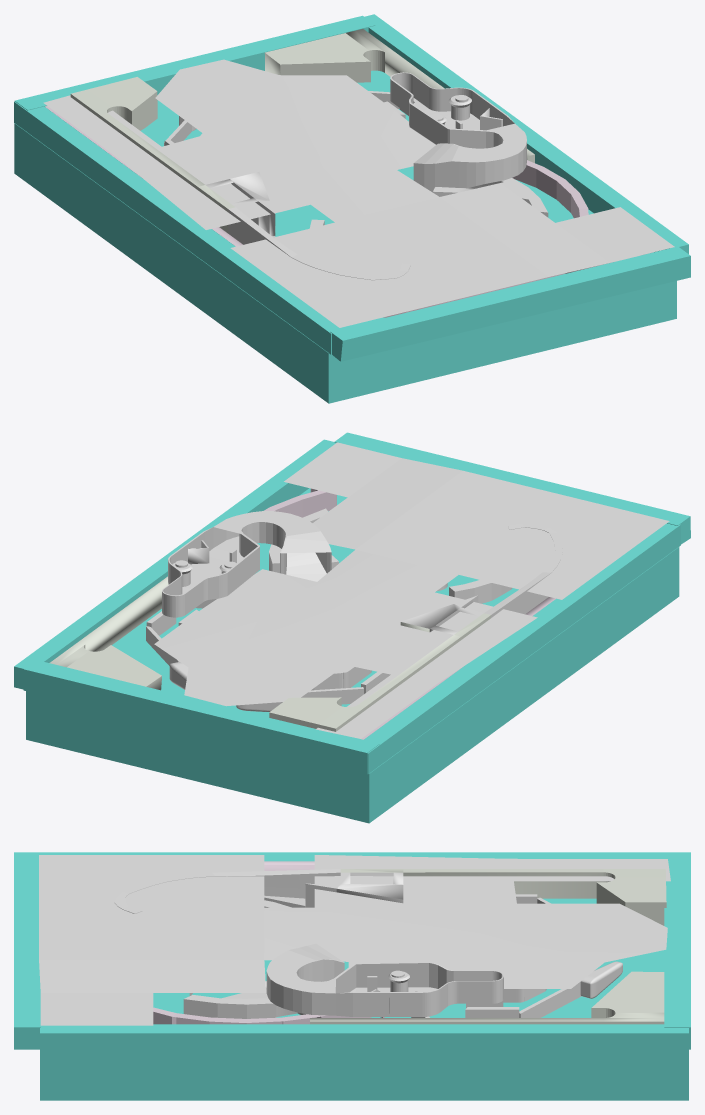
File: bord.fbx
3 views of the same model, one above another, from view 1: azimuth 30°, elevation 25°; view 2: azimuth 150°, elevation 25°; view 3: azimuth 270°, elevation 25° (orthographic). The views are drawn at different scales.
Visible parts, largest first — view 1: 平面, Cube.001, Cube.005, Cube.003, 円柱.007, 円柱, Cube.002, Cube.006, Cube.004, Cube.008, 円柱.002; view 2: 平面, Cube.001, Cube.004, Cube.003, 円柱.007, 円柱, Cube.002, Cube.006, Cube.005, Cube.008, 円柱.003, 立方体.002_立方体.003 (+1 smaller); view 3: 平面, Cube.001, Cube.002, 円柱.007, 円柱, Cube.006, Cube.005, Cube.004, Cube.003, 円柱.002, Cube.008, 立方体.009_立方体.017 (+3 smaller).
Part boxes in pixels (x1,y1,x2,y2): 平面: [43, 59, 674, 327]; Cube.001: [14, 70, 676, 403]; Cube.005: [330, 246, 690, 361]; Cube.003: [14, 101, 345, 354]; 円柱.007: [390, 72, 526, 192]; 円柱: [70, 77, 410, 280]; Cube.002: [364, 14, 688, 253]; Cube.006: [264, 29, 534, 162]; Cube.004: [15, 15, 375, 110]; Cube.008: [45, 106, 651, 317]; 円柱.002: [432, 178, 548, 217]; 平面: [154, 442, 669, 738]; Cube.001: [26, 488, 679, 823]; Cube.004: [23, 660, 379, 774]; Cube.003: [364, 523, 680, 774]; 円柱.007: [162, 511, 331, 617]; 円柱: [269, 523, 562, 731]; Cube.002: [14, 439, 336, 689]; Cube.006: [49, 576, 168, 690]; Cube.005: [334, 432, 690, 544]; Cube.008: [264, 488, 555, 739]; 円柱.003: [449, 580, 512, 603]; 立方体.002_立方体.003: [311, 665, 371, 690]; 平面: [39, 855, 670, 1025]; Cube.001: [40, 898, 688, 1100]; Cube.002: [40, 1024, 688, 1054]; 円柱.007: [266, 943, 503, 1016]; 円柱: [114, 869, 666, 925]; Cube.006: [310, 971, 664, 1024]; Cube.005: [14, 852, 40, 1049]; Cube.004: [664, 852, 690, 1049]; Cube.003: [40, 852, 664, 861]; 円柱.002: [183, 981, 306, 1018]; Cube.008: [153, 861, 384, 1024]; 立方体.009_立方体.017: [519, 982, 581, 1017].
Size of the model in its own units: 1497 by 382 by 2361.
